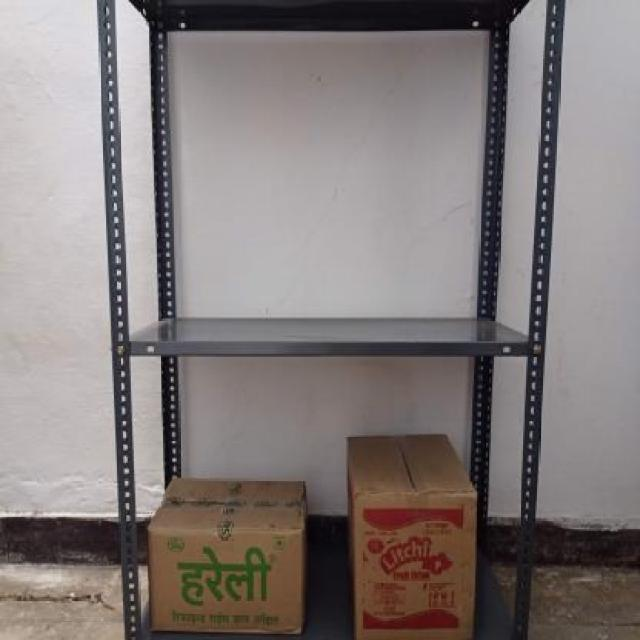box: (355, 490, 477, 638), (146, 528, 306, 636)
